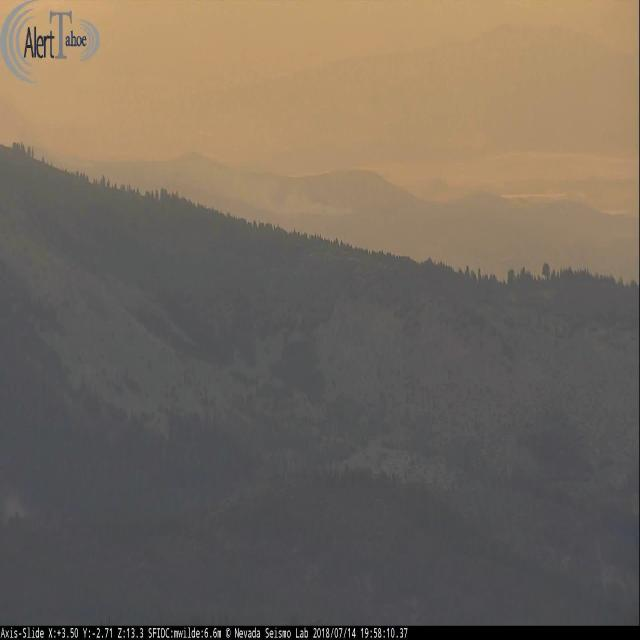smoke: (230, 174, 354, 211)
